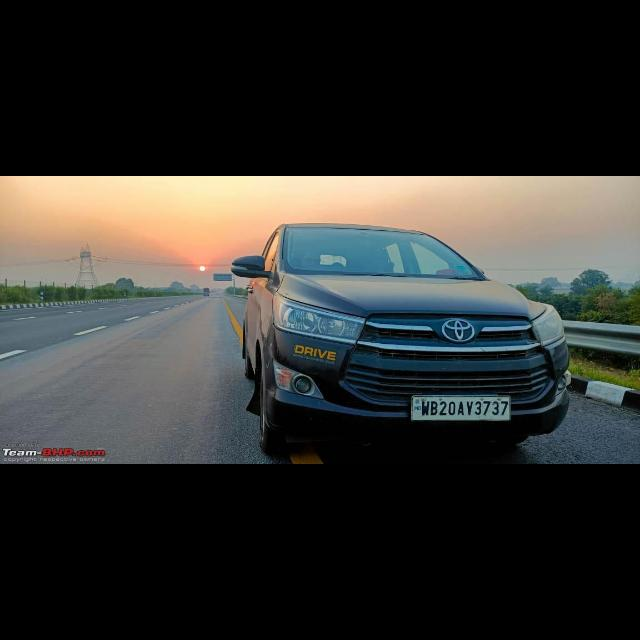number-plate: (409, 397, 514, 424)
vehicles: (244, 216, 585, 441)
